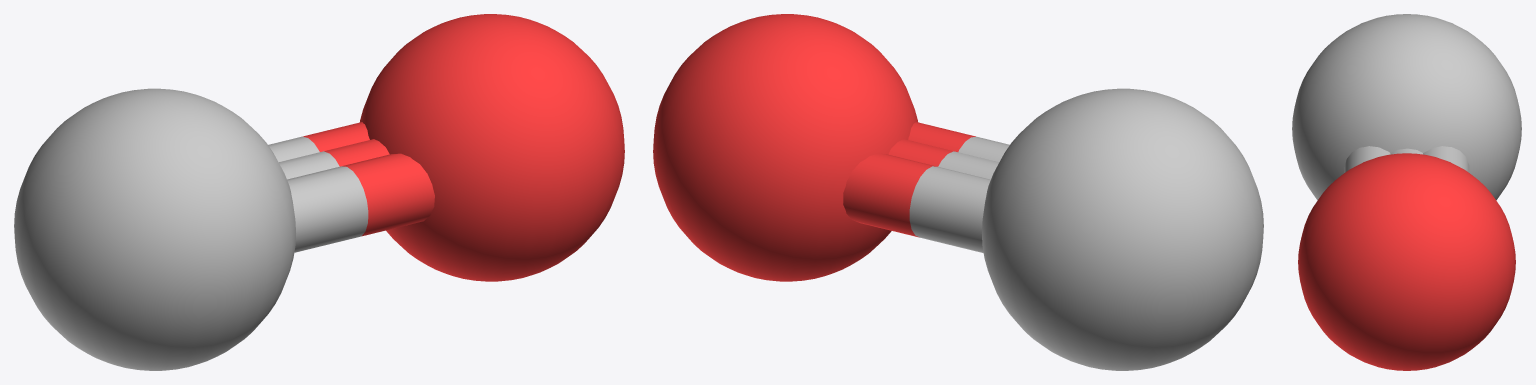
File: Carbon monoxide.fbx
3 renders of one model, left to right at view 1: azimuth 30°, elevation 25°; view 2: azimuth 150°, elevation 25°; view 3: azimuth 270°, elevation 25°, orthographic. The views are drawn at different scales.
Visible parts, largest first — view 1: Carbon monoxide; view 2: Carbon monoxide; view 3: Carbon monoxide.
Part boxes in pixels (bbox=[...]): Carbon monoxide: bbox=[14, 14, 624, 370]; Carbon monoxide: bbox=[653, 14, 1263, 370]; Carbon monoxide: bbox=[1292, 14, 1521, 370].
Size of the model in its own units: 181 by 77 by 77.
